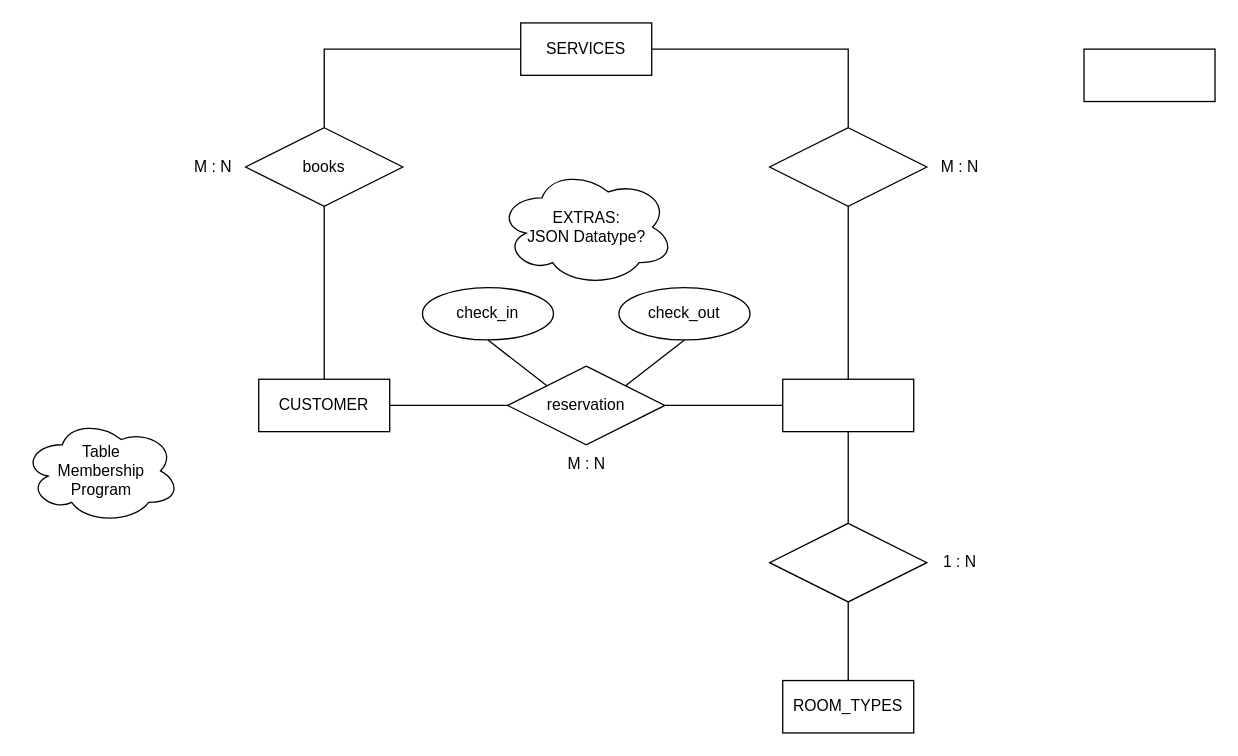
The diagram is 1238 pixels wide and 756 high, and some of its shapes have lost their labels. The box of each missing label's shape, as (x1, y1, x2, y2) in pixels:
belongs: (768, 522, 927, 602)
EMPLOYEE: (1083, 48, 1215, 102)
includes: (768, 126, 927, 206)
ROOM: (781, 378, 914, 432)
